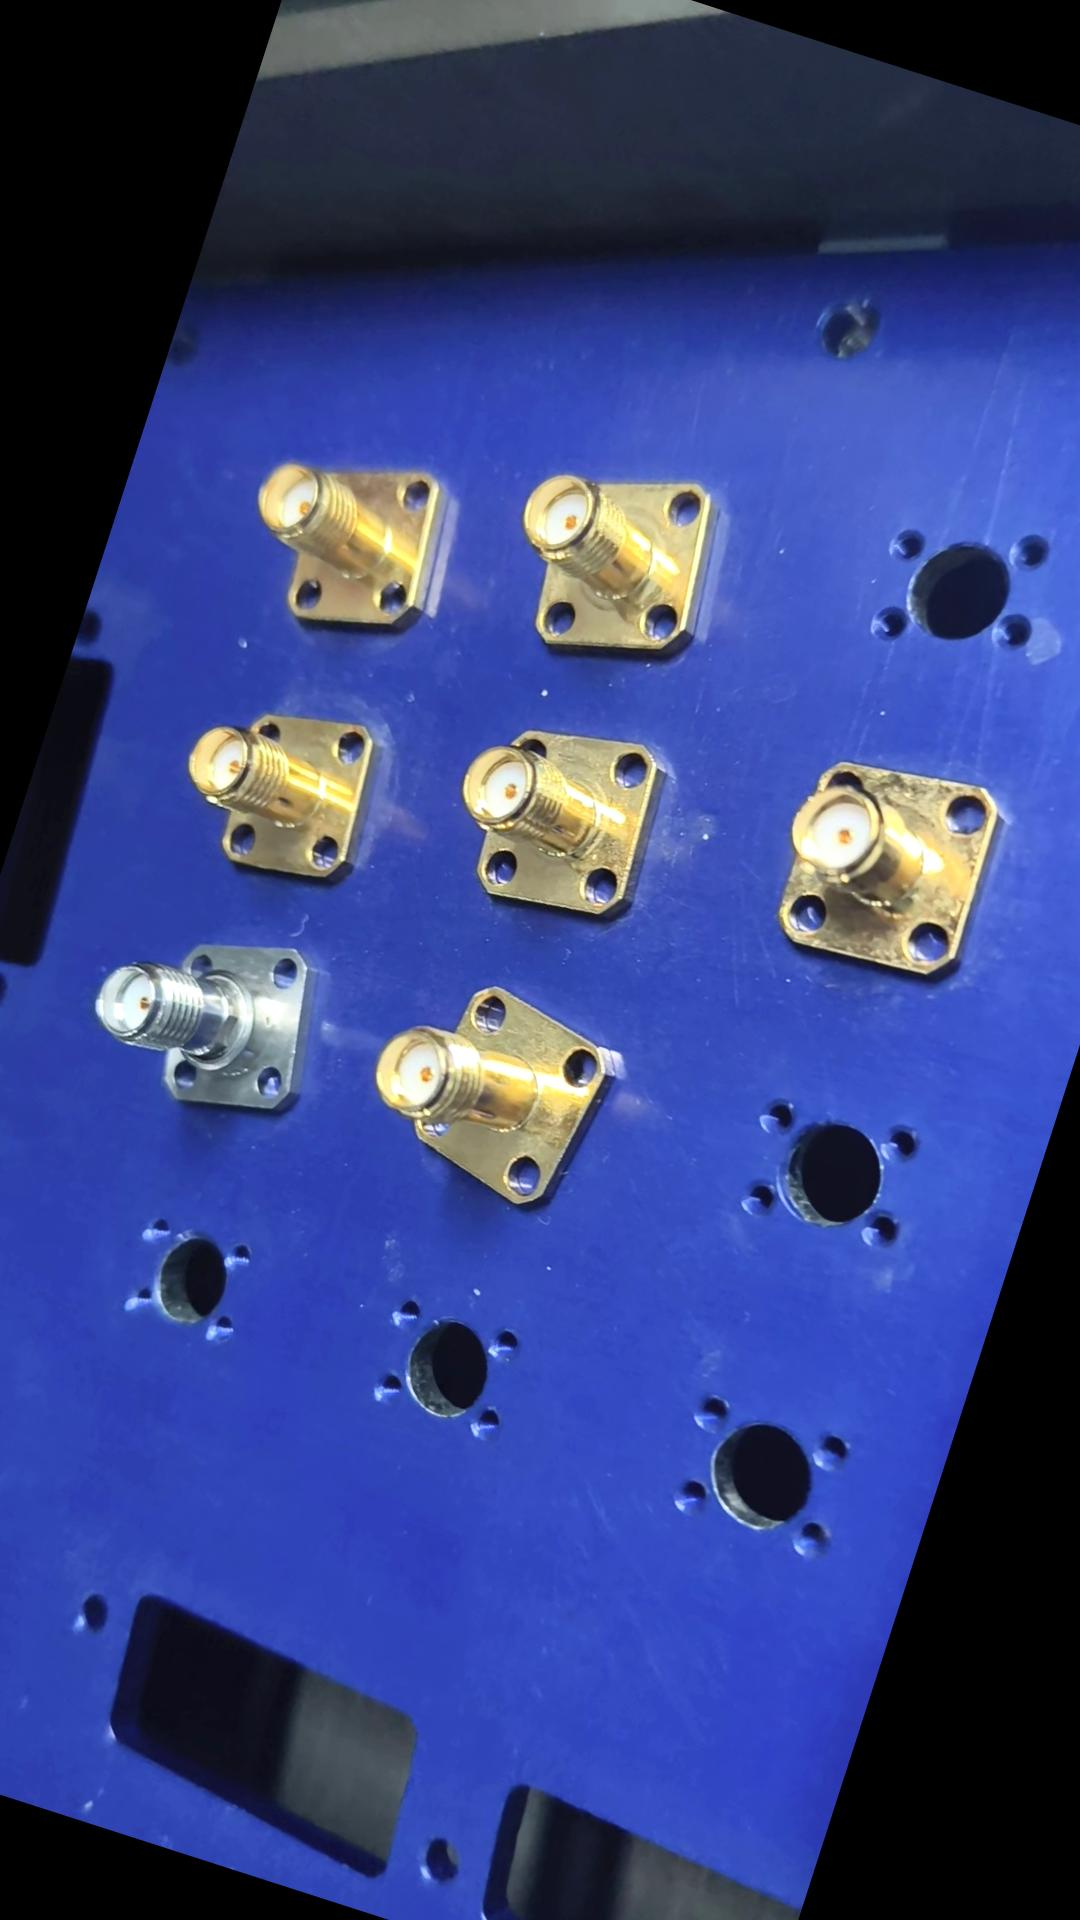SMA: (348, 956, 634, 1224), (753, 735, 1019, 1000), (70, 891, 345, 1139), (426, 694, 688, 944), (493, 435, 748, 691), (222, 427, 469, 659), (160, 673, 400, 903)
